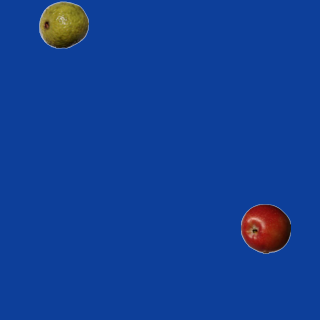Apple Braeburn: (240, 203, 290, 253)
Guava: (38, 0, 88, 49)
